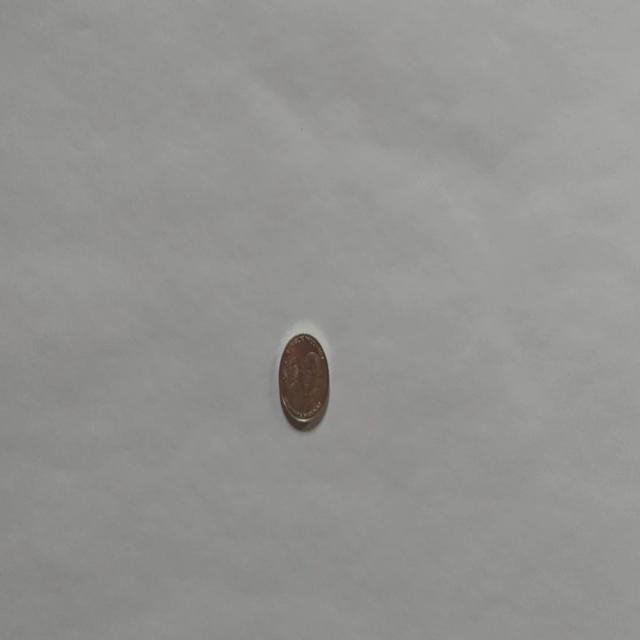lima ratus rupiah: (276, 330, 330, 430)
